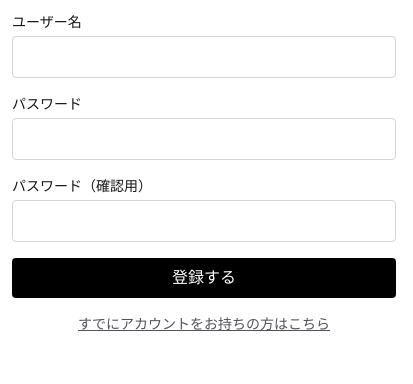
Test case: SignupForm › 登録失敗時(ユーザー名重複)はAPIのエラーメッセージを表示する
Type "testuser" into the field labelled "ユーザー名" at [204, 57], box [12,36,396,78]
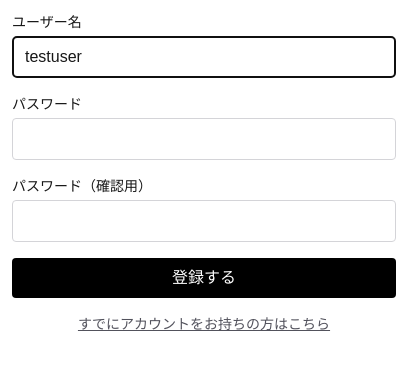
Type "password123" into the password field labelled "パスワード" at [204, 139], box [12,118,396,160]
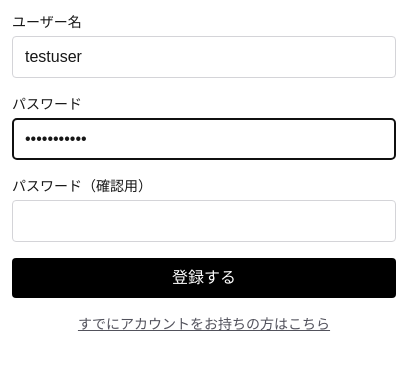
Type "password123" into the password field labelled "パスワード（確認用）" at [204, 221], box [12,200,396,242]
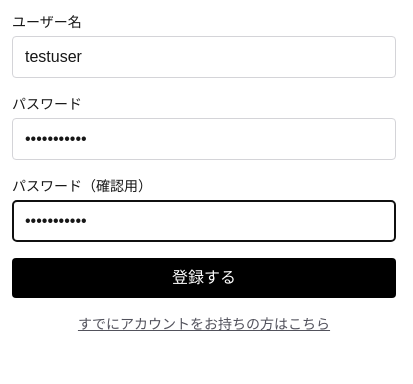
Click the button "登録する" at [204, 278], box [12,258,396,298]
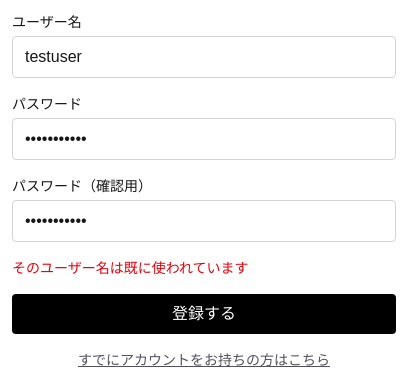
Check: the text "そのユーザー名は既に使われています" is shown, box [12,260,249,276]
